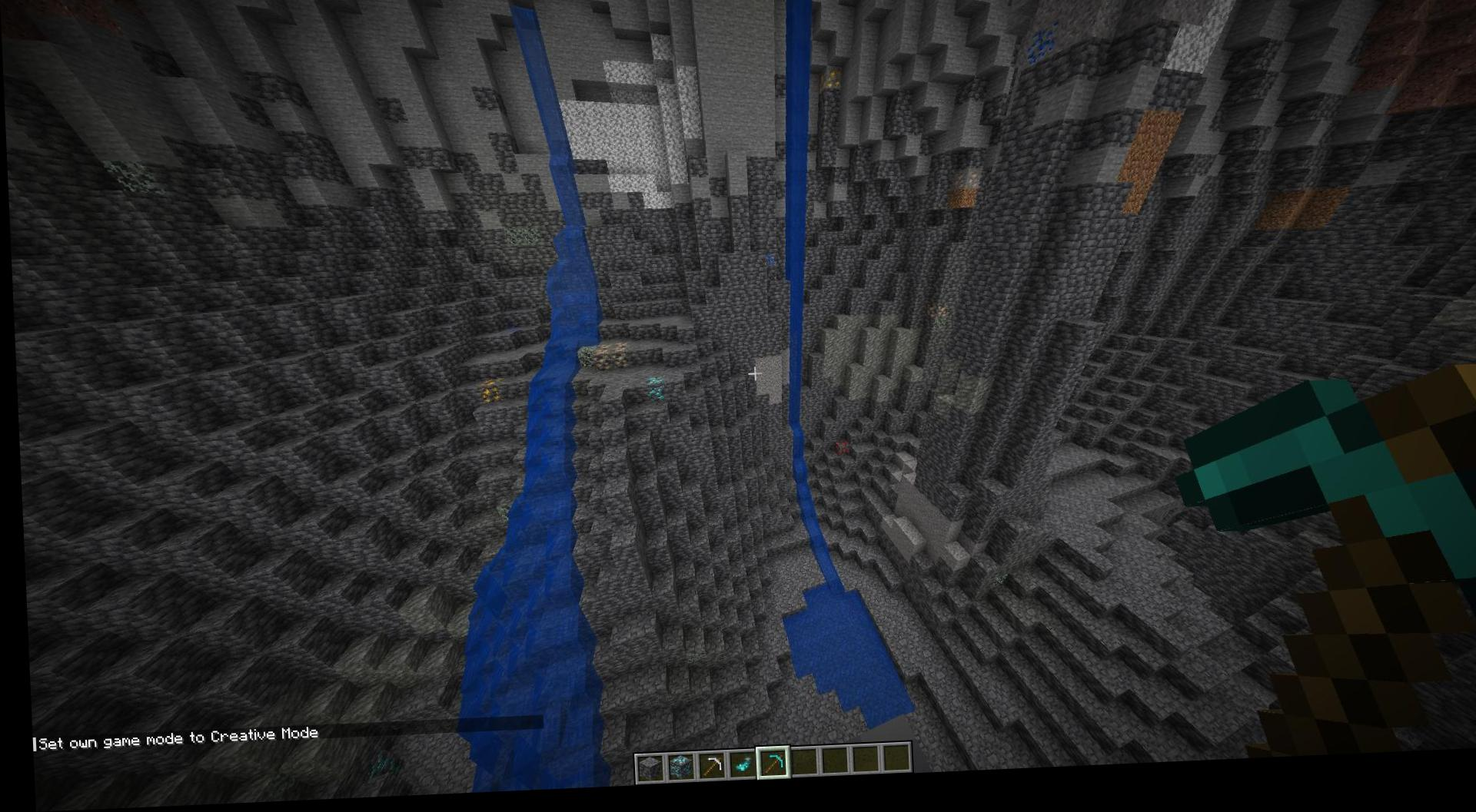diamond ore: (357, 751, 399, 786), (643, 381, 661, 393), (646, 391, 661, 405)
gold ore: (474, 380, 501, 406)
iron ore: (594, 345, 627, 376)
